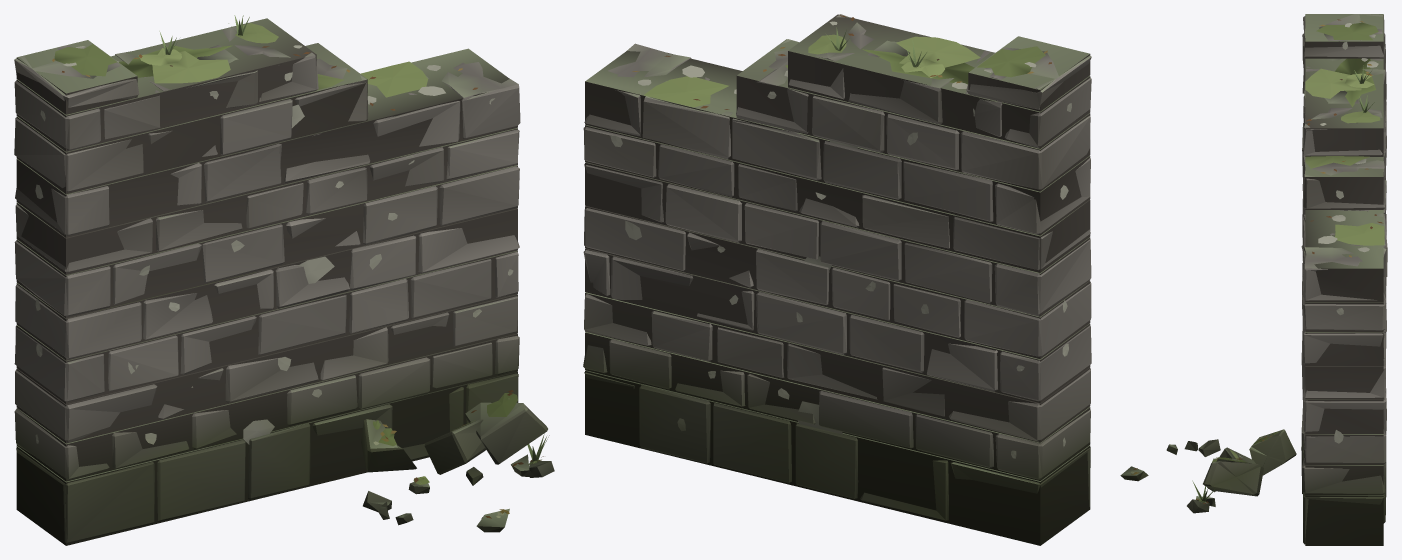
The model's file is vault_wall_a.glb.
The picture shows the model from 3 angles, left to right: view 1: azimuth 30°, elevation 25°; view 2: azimuth 150°, elevation 25°; view 3: azimuth 270°, elevation 25°; orthographic projection. The views are drawn at different scales.
Visible parts, largest first — view 1: vault_wall_a; view 2: vault_wall_a; view 3: vault_wall_a.
Boxes of the visible parts, left/top/right/bottom form: vault_wall_a: left=14, top=15, right=554, bottom=545; vault_wall_a: left=583, top=14, right=1091, bottom=545; vault_wall_a: left=1120, top=14, right=1387, bottom=545.
Size of what is drawn, in the model's own units: 6.02 by 5.72 by 3.85.
